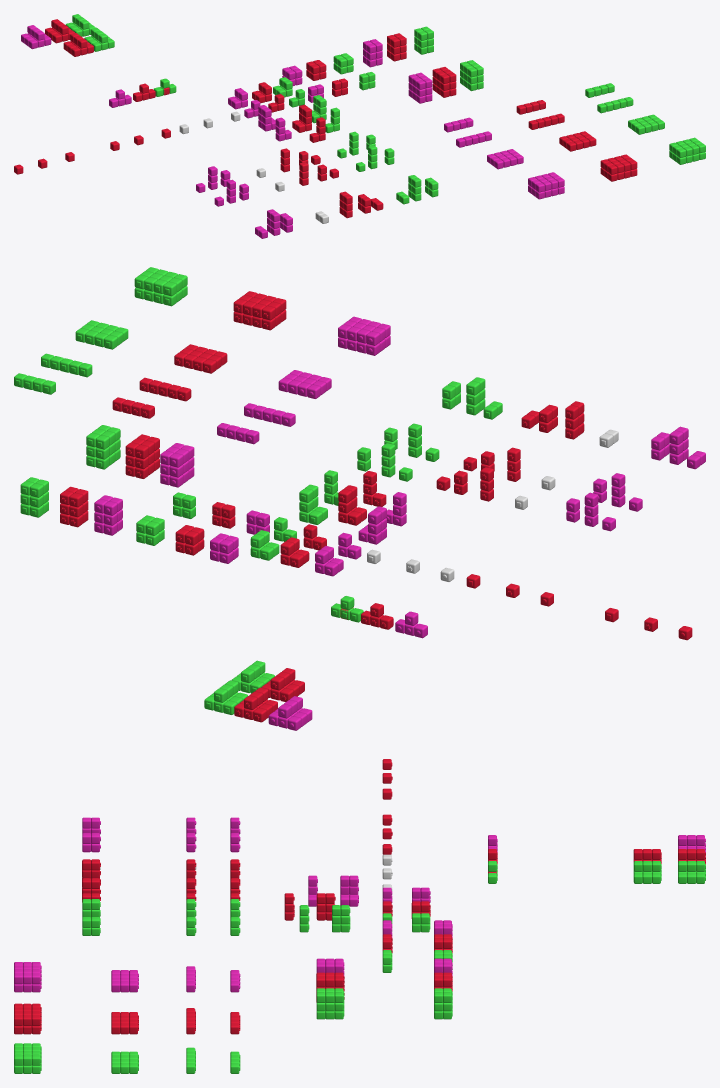
Rendered from Shapes.fbx.
3 renders of one model, top to bottom at view 1: azimuth 30°, elevation 25°; view 2: azimuth 150°, elevation 25°; view 3: azimuth 270°, elevation 25°, orthographic. The views are drawn at different scales.
Parts seen in each view (by area): view 1: Cube.057, Cylinder.024, Cube.058, Cube.040, Cylinder.018, Cube.041, Cube.038, Cube.039, Cylinder.017, Cube.035, Cylinder.015, Cube.034 (+9 smaller); view 2: Cube.057, Cube.058, Cylinder.024, Cube.040, Cube.041, Cylinder.018, Cube.038, Cylinder.017, Cube.039, Cylinder.015, Cube.035, Cube.034 (+14 smaller); view 3: Cube.041, Cube.057, Cube.058, Cylinder.024, Cube.056, Cube.050, Cube.039, Cube.038, Cylinder.017, Cube.035, Cylinder.019, Cube.046 (+1 smaller).
Boxes of the visible parts, x1=… form: Cube.057: x1=600, y1=154, x2=637, y2=181; Cylinder.024: x1=528, y1=172, x2=564, y2=199; Cube.058: x1=669, y1=137, x2=705, y2=164; Cube.040: x1=432, y1=67, x2=456, y2=97; Cylinder.018: x1=408, y1=72, x2=432, y2=103; Cube.041: x1=460, y1=60, x2=483, y2=91; Cube.038: x1=559, y1=131, x2=596, y2=151; Cube.039: x1=628, y1=114, x2=664, y2=134; Cylinder.017: x1=487, y1=149, x2=523, y2=169; Cube.035: x1=414, y1=26, x2=433, y2=54; Cylinder.015: x1=363, y1=39, x2=382, y2=67; Cube.034: x1=387, y1=33, x2=406, y2=61; Cube.057: x1=233, y1=291, x2=286, y2=330; Cube.058: x1=134, y1=267, x2=187, y2=306; Cylinder.024: x1=338, y1=316, x2=390, y2=355; Cube.040: x1=125, y1=434, x2=159, y2=478; Cube.041: x1=86, y1=425, x2=120, y2=469; Cylinder.018: x1=160, y1=443, x2=194, y2=487; Cube.038: x1=174, y1=344, x2=227, y2=373; Cylinder.017: x1=278, y1=370, x2=331, y2=398; Cube.039: x1=75, y1=320, x2=128, y2=349; Cylinder.015: x1=94, y1=495, x2=122, y2=535; Cube.035: x1=20, y1=477, x2=48, y2=517; Cube.034: x1=60, y1=486, x2=88, y2=527; Cube.041: x1=316, y1=988, x2=344, y2=1019; Cube.057: x1=14, y1=1003, x2=41, y2=1034; Cube.058: x1=14, y1=1043, x2=41, y2=1073; Cylinder.024: x1=14, y1=962, x2=41, y2=992; Cube.056: x1=633, y1=861, x2=661, y2=883; Cube.050: x1=678, y1=861, x2=705, y2=883; Cube.039: x1=111, y1=1051, x2=138, y2=1073; Cube.038: x1=111, y1=1012, x2=138, y2=1034; Cylinder.017: x1=111, y1=970, x2=138, y2=992; Cube.035: x1=434, y1=988, x2=452, y2=1019; Cylinder.019: x1=340, y1=875, x2=358, y2=906; Cube.046: x1=332, y1=905, x2=350, y2=932.
Bounding box in the file's own units: 8072 × 300 × 7669.
